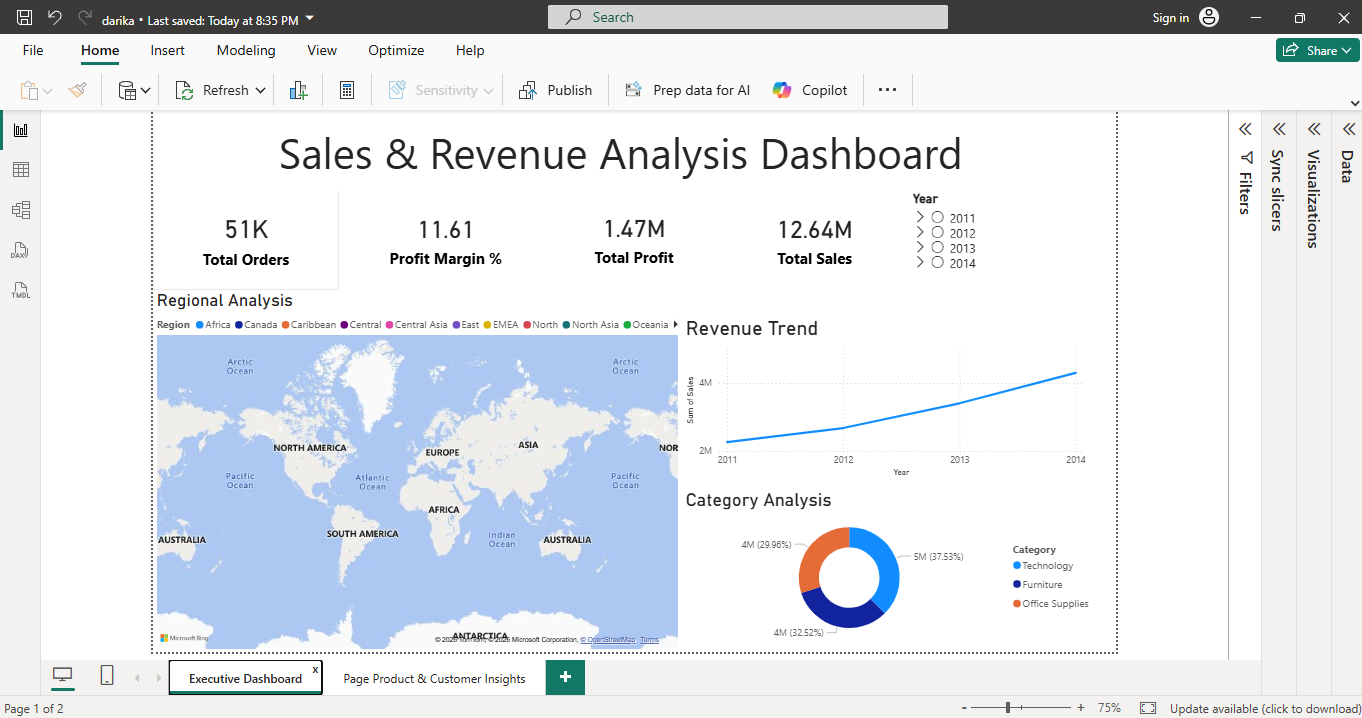

The dashboard page shown, as its layout file describes it:
{"tool":"powerbi","page":{"name":"Executive Dashboard","canvas":[1280,720],"ordinal":0},"visuals":[{"type":"card","fields":{"Values":["superstore.Total Orders"]},"box":[0,99.1,246.9,139.4],"z":0},{"type":"card","fields":{"Values":["superstore.Total Profit"]},"box":[509,104.1,260.4,129.3],"z":1000},{"type":"card","fields":{"Values":["superstore.Total Sales"]},"box":[739.1,94.1,280.5,149.5],"z":2000},{"type":"card","fields":{"Values":["superstore.Profit Margin %"]},"box":[246.9,104.1,283.9,131],"z":3000},{"type":"lineChart","title":"Revenue Trend","fields":{"Category":["superstore.Order.Date.Variation.Date Hierarchy.Year","superstore.Order.Date.Variation.Date Hierarchy.Quarter","superstore.Order.Date.Variation.Date Hierarchy.Month","superstore.Order.Date.Variation.Date Hierarchy.Day"],"Y":["Sum(superstore.Sales)"]},"box":[702.2,273.8,540.9,218.4],"z":4000},{"type":"donutChart","title":"Category Analysis","fields":{"Category":["superstore.Category"],"Y":["Sum(superstore.Sales)"]},"box":[702.2,503.9,554.3,208.3],"z":6000},{"type":"map","title":"Regional Analysis","fields":{"Series":["superstore.Region"],"Size":["Sum(superstore.Sales)"]},"box":[0,238.5,702.2,482.1],"z":7000},{"type":"textbox","box":[0,13.4,1243,94.1],"z":7001},{"type":"listSlicer","fields":{"Values":["superstore.Order.Date.Variation.Date Hierarchy.Year","superstore.Region","superstore.Category"]},"box":[1004.5,107.5,275.5,193.2],"z":7002}]}

Visuals, with their boxes on the page's 1280x720 design canvas (x1, y1, x2, y2). These are canvas units, not pixel positions in the 1362x718 screenshot, which may show the page scaled, cropped or inside an application window:
card - superstore.Total Orders: (0, 99, 247, 238)
card - superstore.Total Profit: (509, 104, 769, 233)
card - superstore.Total Sales: (739, 94, 1020, 244)
card - superstore.Profit Margin %: (247, 104, 531, 235)
"Revenue Trend" lineChart: (702, 274, 1243, 492)
"Category Analysis" donutChart: (702, 504, 1256, 712)
"Regional Analysis" map: (0, 238, 702, 721)
textbox: (0, 13, 1243, 108)
listSlicer - superstore.Order.Date.Variation.Date Hierarchy.Year x superstore.Region: (1004, 108, 1280, 301)
